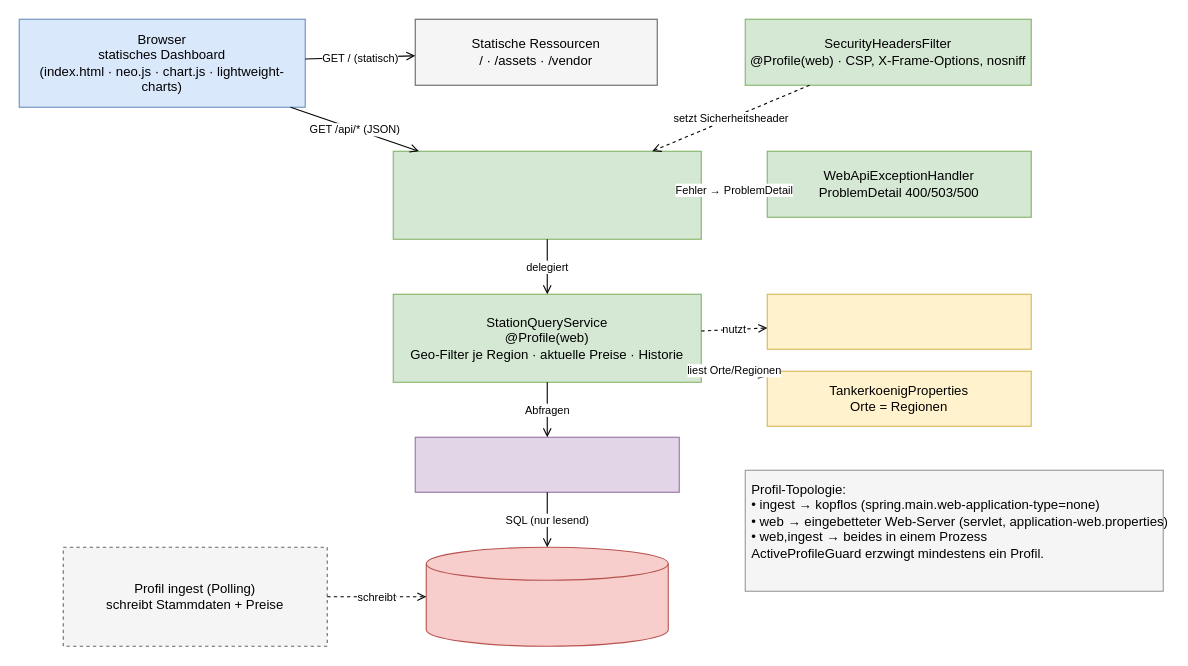
Image size: 1188x666. Some labels were removed from this diagram. Here are the shapes that lost their labels. From the top down, the box of each, then its label:
(392, 150, 701, 239): WebApiController @Profile(web) /api/meta · /regions · /stations · /history
(766, 293, 1031, 349): ChartTime · FuelCodes · GeoSupport (@UtilityClass)
(414, 436, 679, 492): JdbcTemplate (read-only)
(425, 546, 668, 646): MariaDB `tankermax` (3NF)
